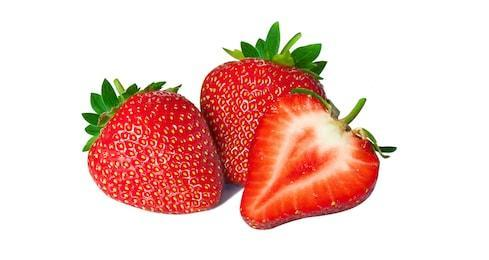Fresa: (237, 89, 387, 235), (195, 50, 334, 193), (82, 84, 226, 220)
